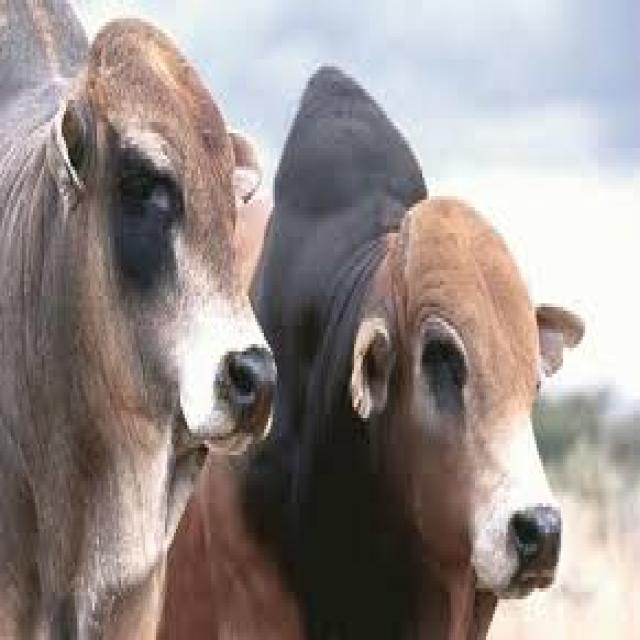cowFace: (336, 115, 590, 618), (22, 0, 290, 474)
